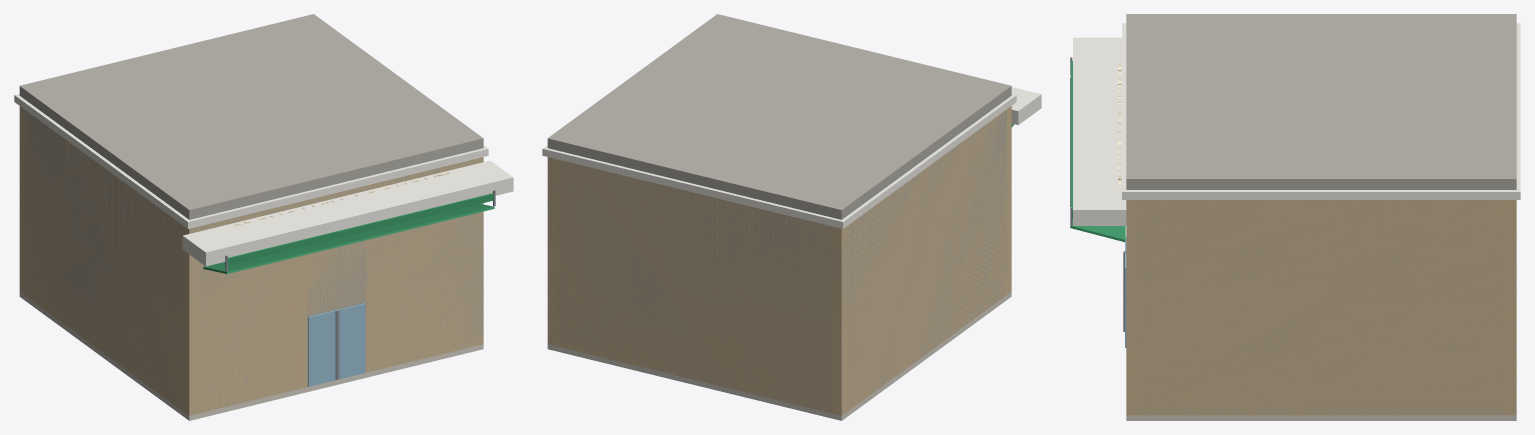
File: BLD_Observatory.fbx
The picture shows the model from 3 angles, left to right: view 1: azimuth 30°, elevation 25°; view 2: azimuth 150°, elevation 25°; view 3: azimuth 270°, elevation 25°; orthographic projection. The views are drawn at different scales.
Parts seen in each view (by area): view 1: BLD_Observatory__BODY, BLD_Observatory__COL_Main; view 2: BLD_Observatory__BODY, BLD_Observatory__COL_Main; view 3: BLD_Observatory__BODY, BLD_Observatory__COL_Main.
Boxes of the visible parts, bbox=[...] form: BLD_Observatory__BODY: bbox=[14, 14, 513, 420]; BLD_Observatory__COL_Main: bbox=[19, 86, 483, 414]; BLD_Observatory__BODY: bbox=[542, 14, 1041, 420]; BLD_Observatory__COL_Main: bbox=[547, 87, 1011, 415]; BLD_Observatory__BODY: bbox=[1070, 14, 1520, 420]; BLD_Observatory__COL_Main: bbox=[1126, 179, 1516, 415].
Bounding box in the file's own units: 11.5 × 7.53 × 12.7.
